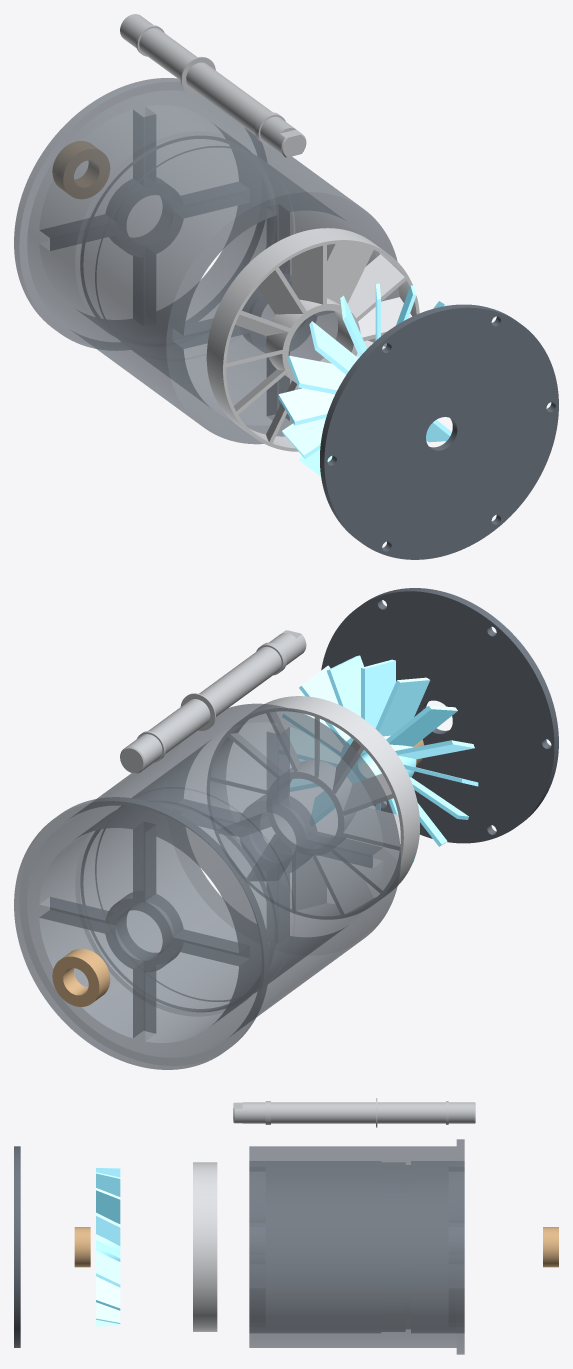
Rendered from turbine-module-v001-exploded.glb.
3 views of the same model, one above another, from view 1: azimuth 30°, elevation 25°; view 2: azimuth 150°, elevation 25°; view 3: azimuth 270°, elevation 25° (orthographic). The views are drawn at different scales.
Parts seen in each view (by area): view 1: NAUO1, NAUO7, NAUO4, NAUO3, NAUO2, NAUO5; view 2: NAUO1, NAUO7, NAUO4, NAUO3, NAUO2, NAUO5; view 3: NAUO1, NAUO2, NAUO4, NAUO3, NAUO7, NAUO6, NAUO5.
Boxes of the visible parts, x1=… form: NAUO1: x1=14, y1=78, x2=399, y2=444; NAUO7: x1=320, y1=304, x2=558, y2=559; NAUO4: x1=206, y1=228, x2=419, y2=451; NAUO3: x1=278, y1=283, x2=451, y2=476; NAUO2: x1=120, y1=14, x2=306, y2=157; NAUO5: x1=52, y1=141, x2=109, y2=198; NAUO1: x1=14, y1=703, x2=400, y2=1069; NAUO7: x1=321, y1=588, x2=558, y2=843; NAUO4: x1=207, y1=696, x2=419, y2=919; NAUO3: x1=282, y1=655, x2=478, y2=861; NAUO2: x1=120, y1=630, x2=306, y2=773; NAUO5: x1=52, y1=948, x2=110, y2=1006; NAUO1: x1=249, y1=1139, x2=464, y2=1354; NAUO2: x1=233, y1=1098, x2=475, y2=1127; NAUO4: x1=193, y1=1162, x2=217, y2=1331; NAUO3: x1=96, y1=1168, x2=120, y2=1326; NAUO7: x1=14, y1=1146, x2=20, y2=1347; NAUO6: x1=74, y1=1227, x2=90, y2=1267; NAUO5: x1=543, y1=1227, x2=558, y2=1267.
Bounding box in the file's own units: 0.16 × 0.201 × 0.405.
